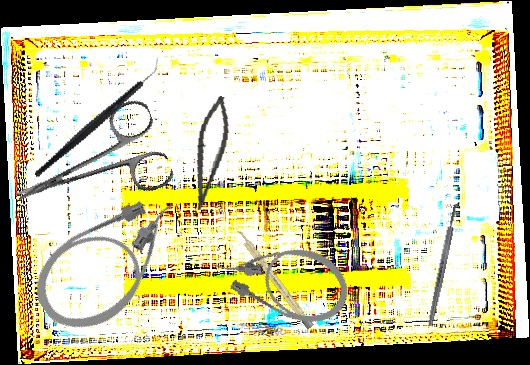Cannula: (19, 178, 207, 348), (207, 221, 359, 335)
Chopper: (11, 55, 184, 179)
Iris Scissors: (0, 95, 177, 237)
Micro Scissor: (188, 94, 234, 213)
Scalpel Handle: (234, 228, 315, 330), (426, 205, 459, 327)
